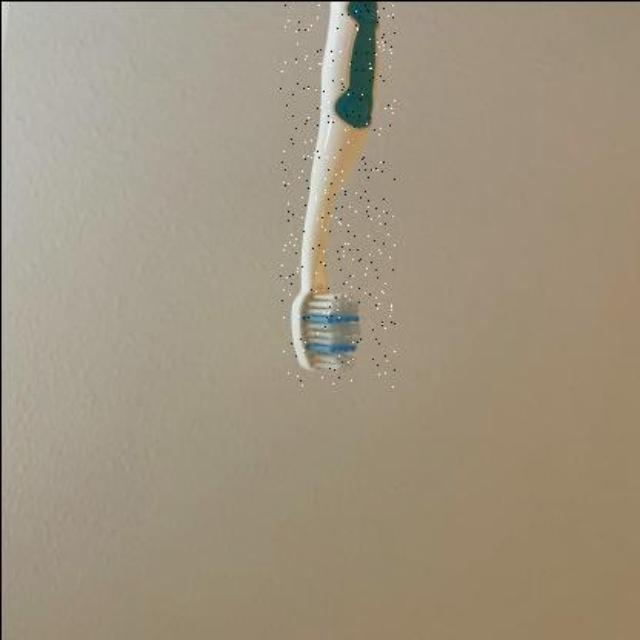toothbrush: (278, 0, 394, 386)
